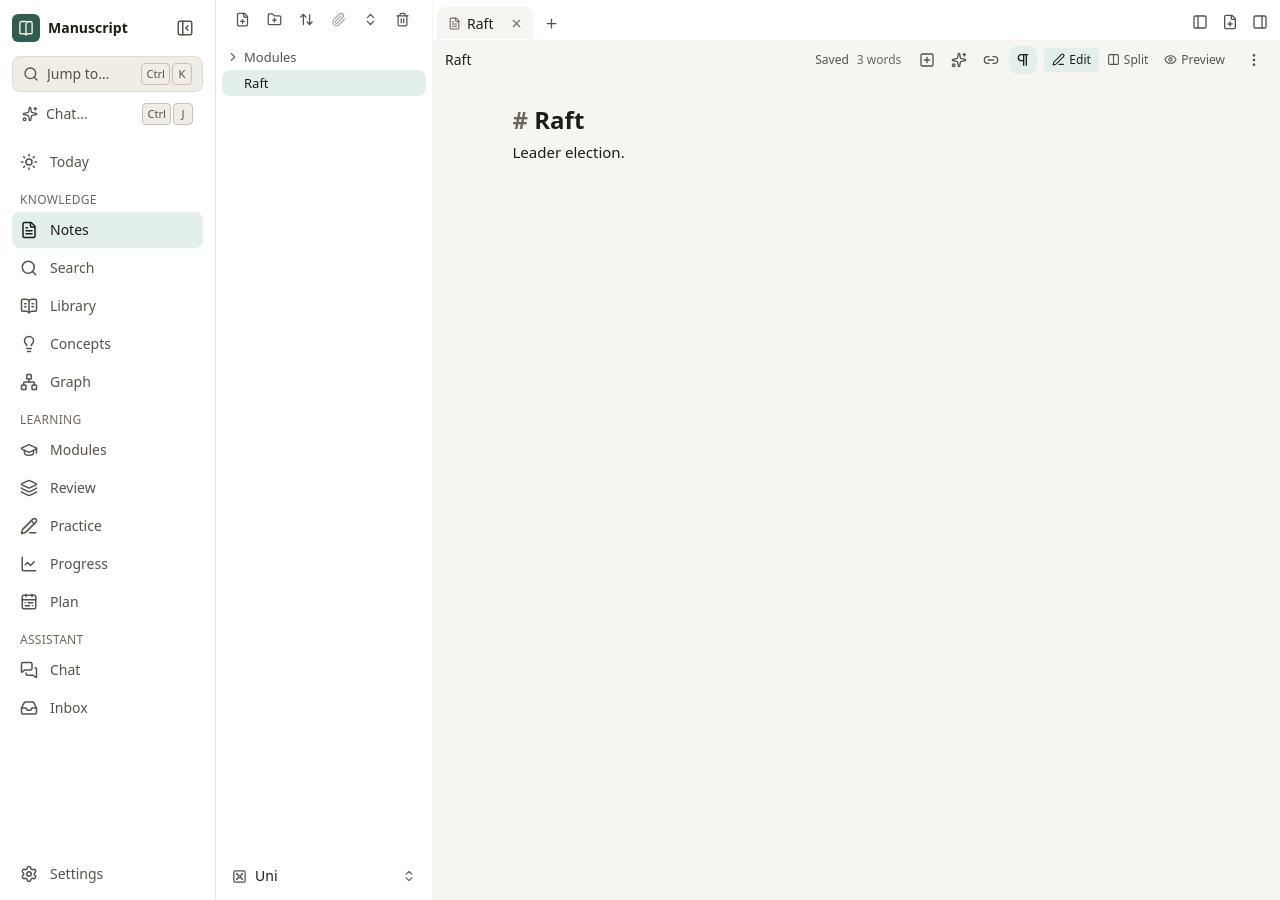
Test: Notes page › has the More options menu of Obsidian, whose Split right opens a second pane
Click the button named "More options" at (1254, 60), box [1240,46,1268,74]
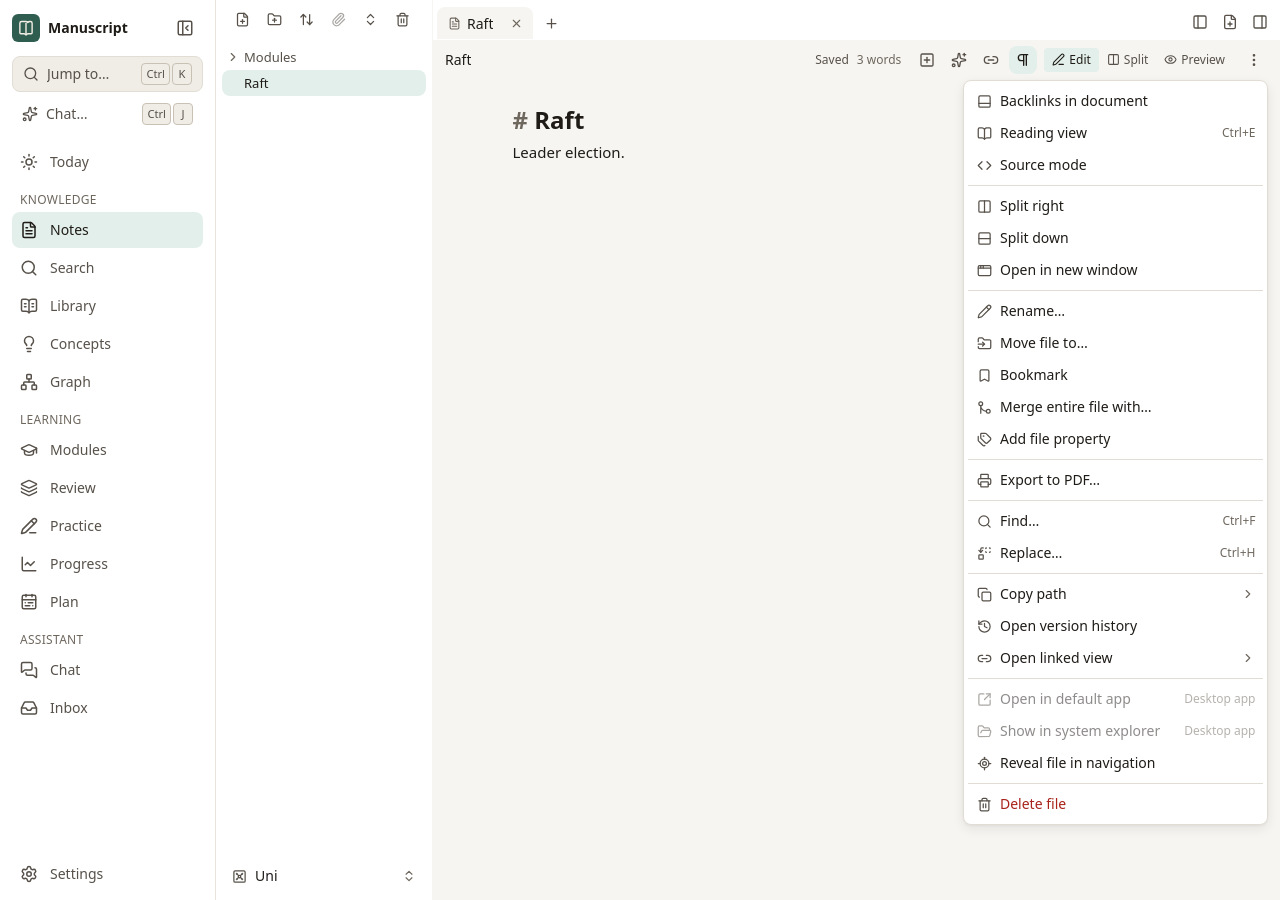
Click the menu item "Split right" at (1020, 206), box [976,196,1064,215]
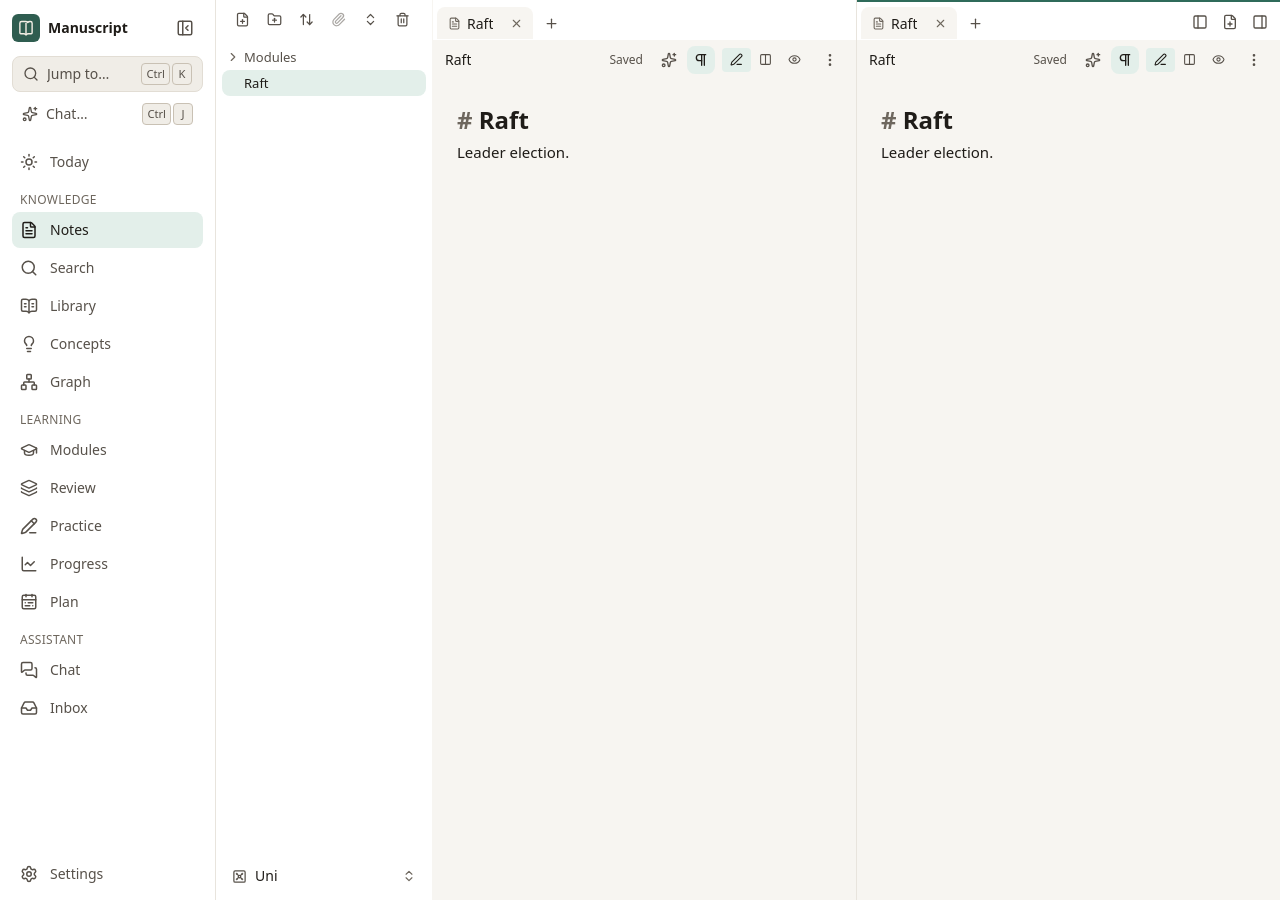
Now the navigation bar named "Open notes in the pane on the right" is shown, box [861,7,989,39]
